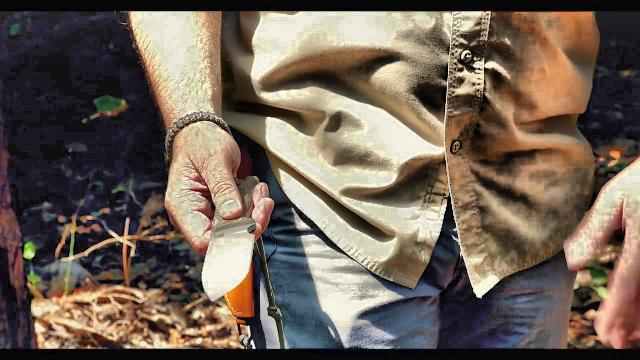knife: (161, 170, 279, 306)
